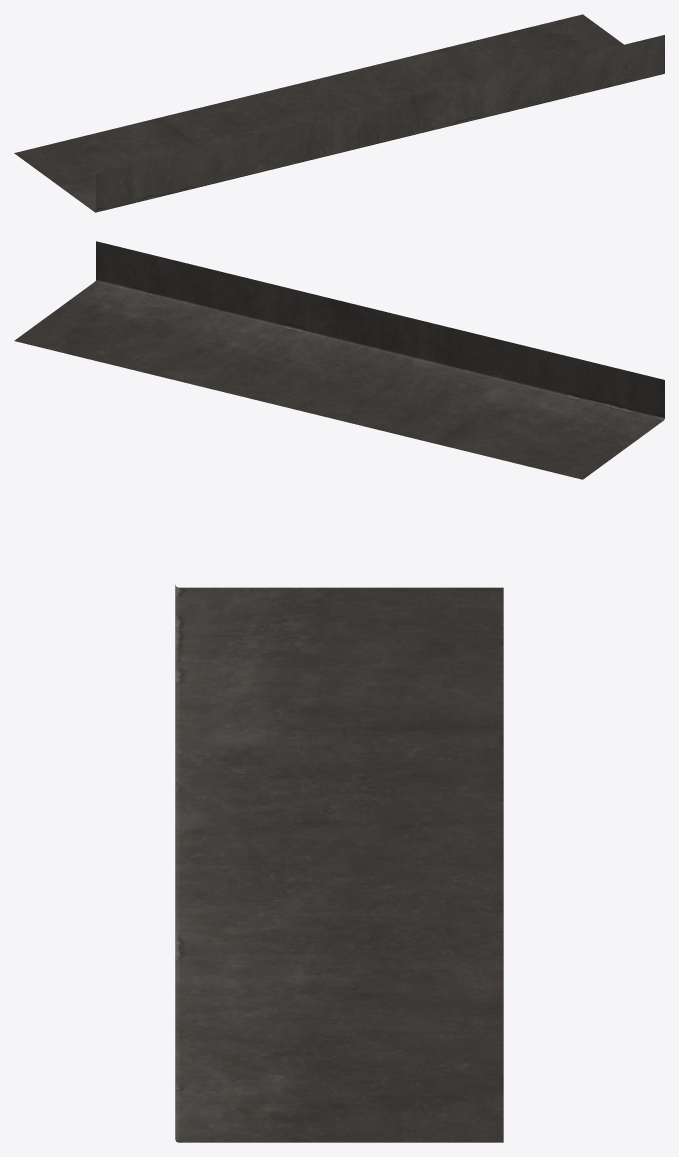
Rendered from base_standard_01.gltf.
The picture shows the model from 3 angles, top to bottom: view 1: azimuth 30°, elevation 25°; view 2: azimuth 150°, elevation 25°; view 3: azimuth 270°, elevation 25°; orthographic projection. The views are drawn at different scales.
Parts seen in each view (by area): view 1: base_standard_01; view 2: base_standard_01; view 3: base_standard_01.
Boxes of the visible parts, x1=… form: base_standard_01: x1=14, y1=14, x2=664, y2=212; base_standard_01: x1=14, y1=241, x2=664, y2=479; base_standard_01: x1=175, y1=585, x2=503, y2=1142.
Size of the model in its own units: 3 by 0.2 by 0.75.
Materials: 1 (1 with a texture image).
